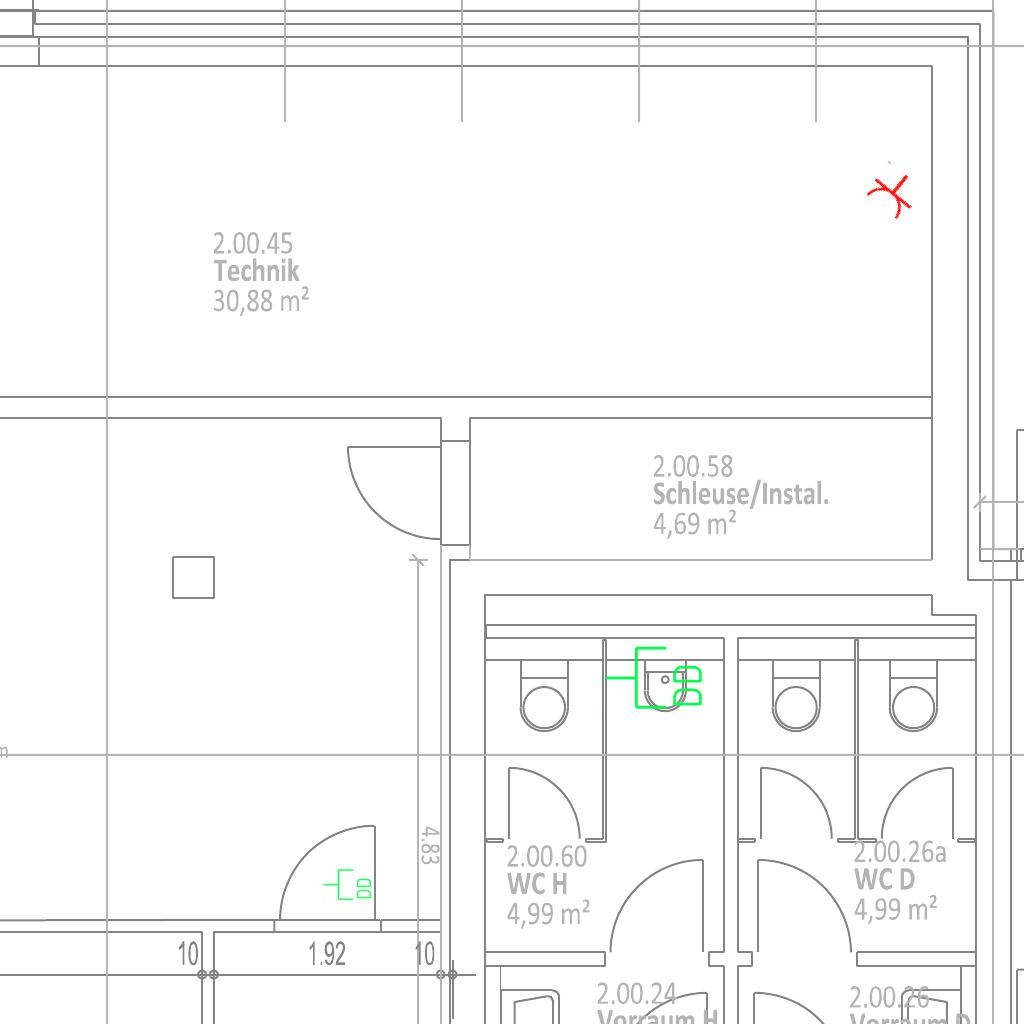Datenanschluss_zweifach: (603, 644, 706, 713), (322, 868, 373, 902)
Schukosteckdose_einfach: (860, 158, 927, 224)
